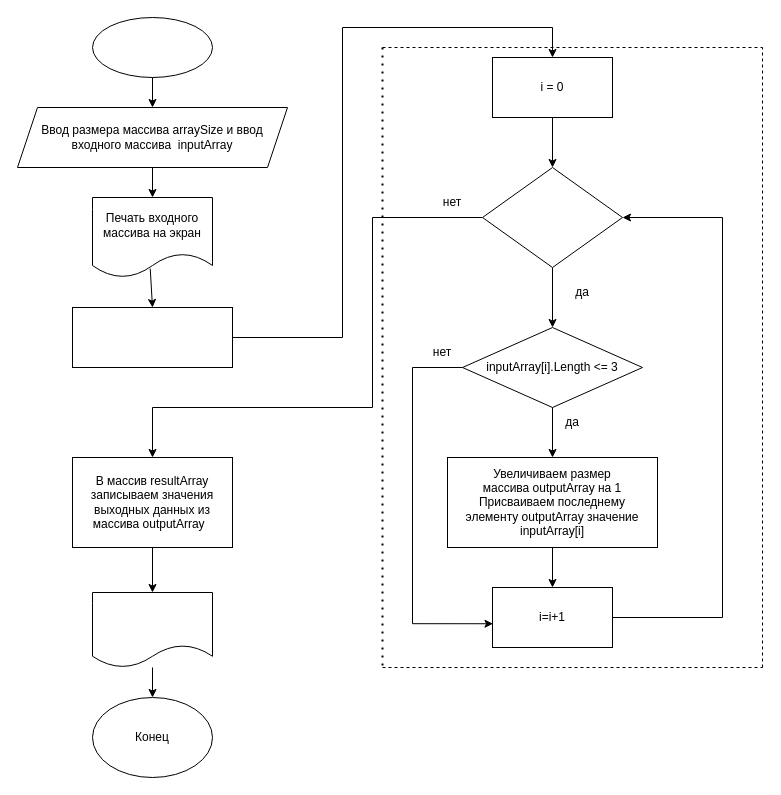
This 781x795 diagram has some shape labels left out. The box of each missing label's shape, as (x1, y1, x2, y2) in pixels:
i<inputArray.Length: (482, 166, 622, 268)
Вывод ответа resultArray на экран: (92, 592, 212, 668)
Создаем пустой массив outputArray с размером 0: (72, 306, 232, 368)
Старт: (92, 16, 212, 78)
